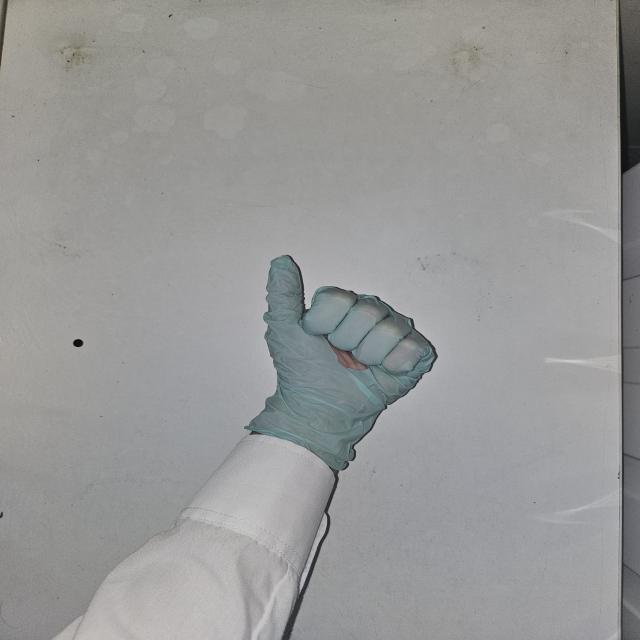gloves_damaged: (242, 249, 442, 473)
